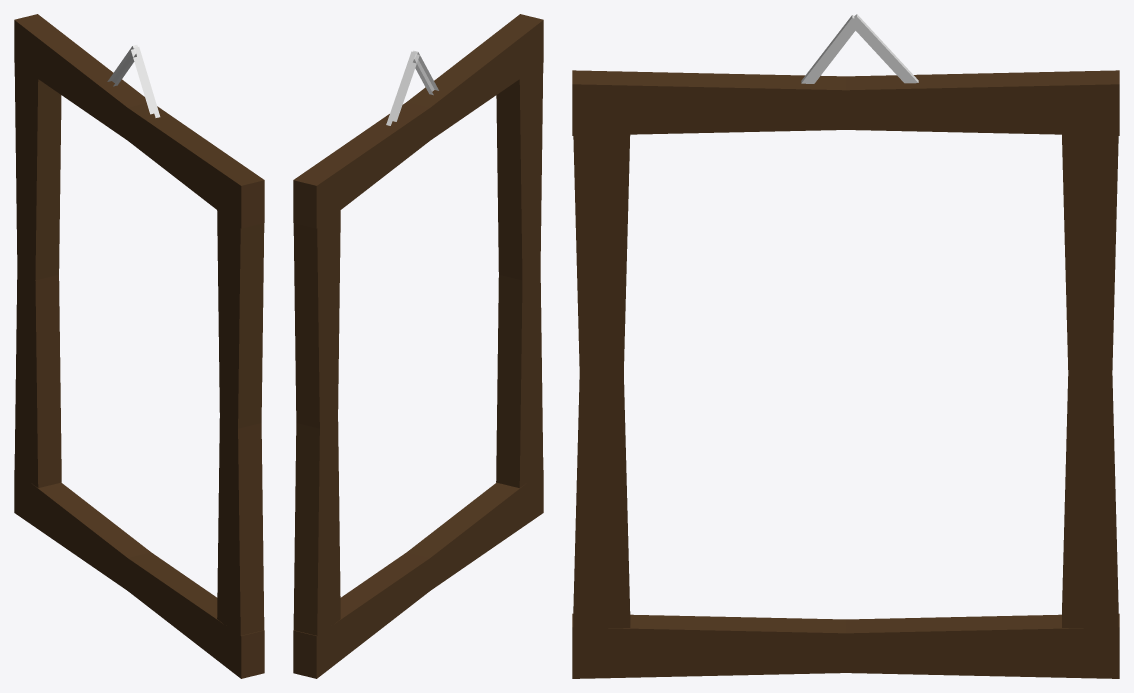
Rendered from Картина 1.fbx.
The picture shows the model from 3 angles, left to right: view 1: azimuth 30°, elevation 25°; view 2: azimuth 150°, elevation 25°; view 3: azimuth 270°, elevation 25°; orthographic projection. The views are drawn at different scales.
Parts seen in each view (by area): view 1: Cube.001; view 2: Cube.001; view 3: Cube.001.
Boxes of the visible parts, x1,y1,x2,y2 form: Cube.001: (14, 14, 264, 678); Cube.001: (293, 14, 543, 678); Cube.001: (572, 14, 1119, 678).
Bounding box in the file's own units: 12 × 265 × 200.
